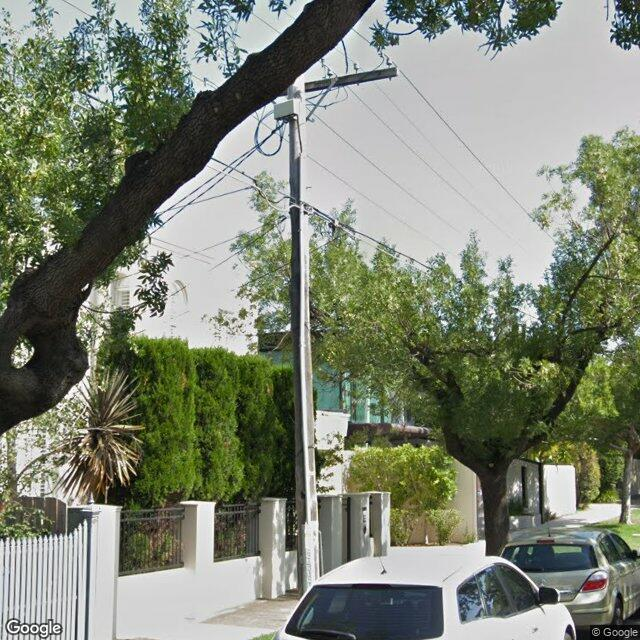crossarm: (276, 67, 398, 96)
timber-pole: (285, 74, 319, 598)
